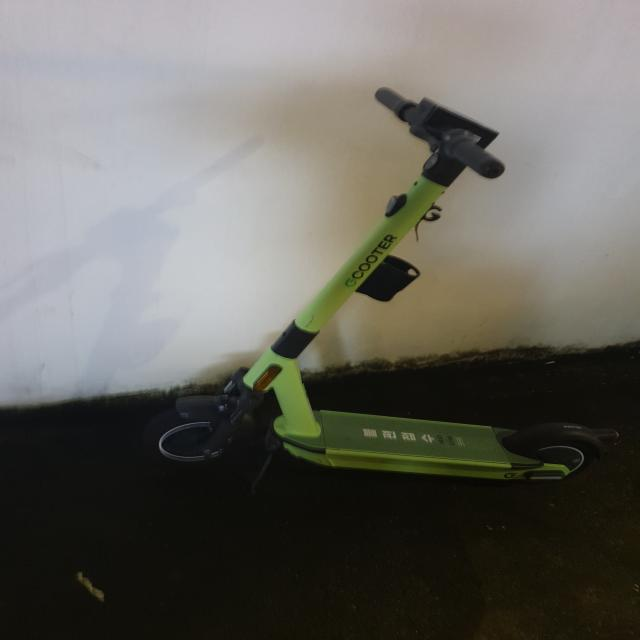bike: (142, 87, 622, 489)
